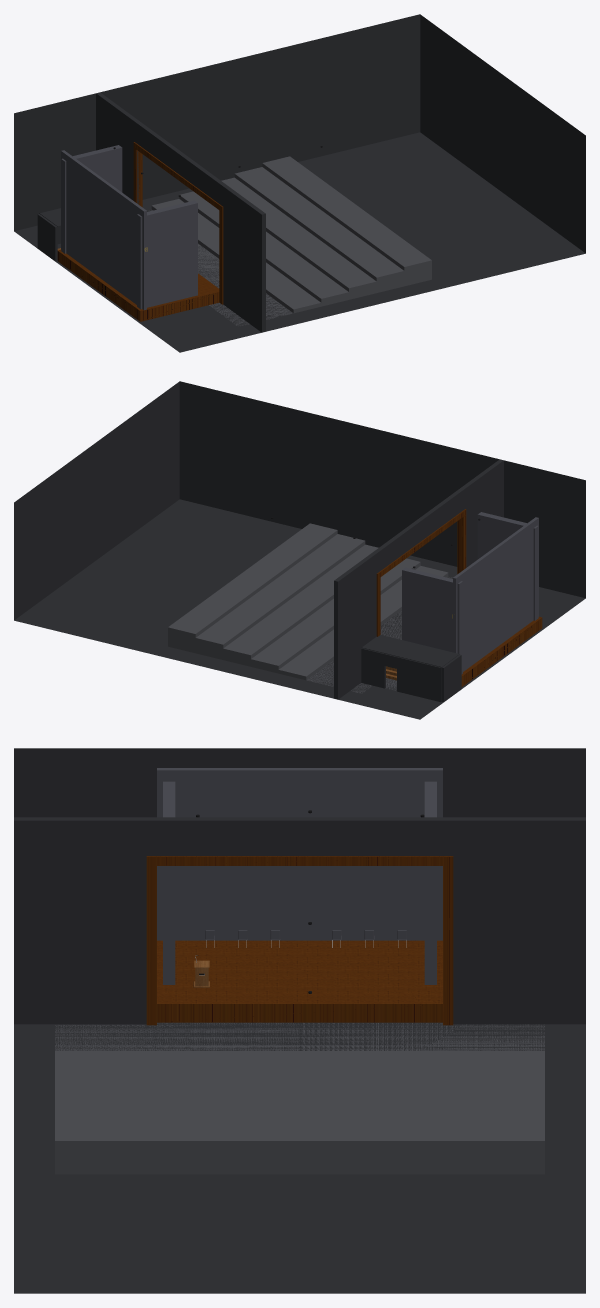
The model's file is set11.glb.
3 renders of one model, top to bottom at view 1: azimuth 30°, elevation 25°; view 2: azimuth 150°, elevation 25°; view 3: azimuth 270°, elevation 25°, orthographic. The views are drawn at different scales.
Parts seen in each view (by area): view 1: Static; view 2: Static; view 3: Static.
Boxes of the visible parts, x1,y1,x2,y2 form: Static: (14, 14, 585, 352); Static: (14, 381, 585, 719); Static: (14, 748, 585, 1293).
Size of the model in its own units: 39.6 by 11.02 by 28.
10 materials, 2 textured.
